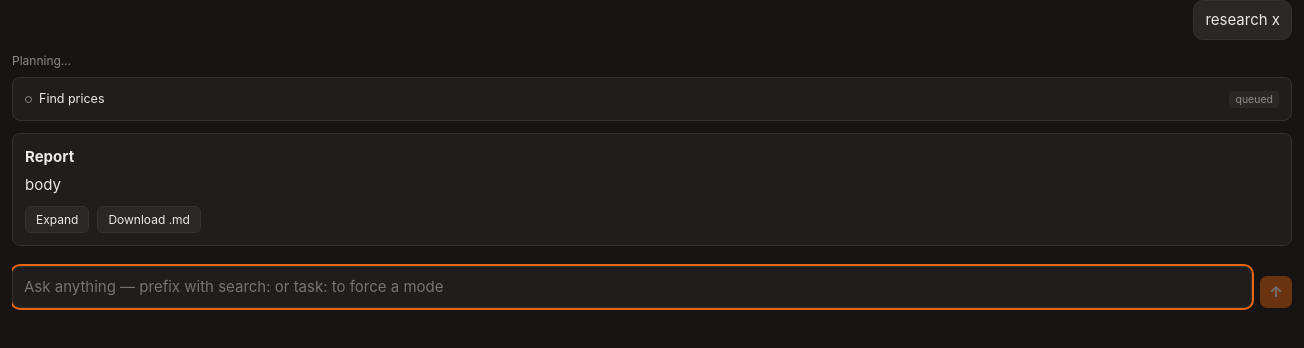
Chat › failed send keeps the text and shows an error
Expected: the text "Find prices" is shown, [25,90,104,108]
Type "keep me" into the text box named "Message" at (632, 287), box [12,266,1252,308]
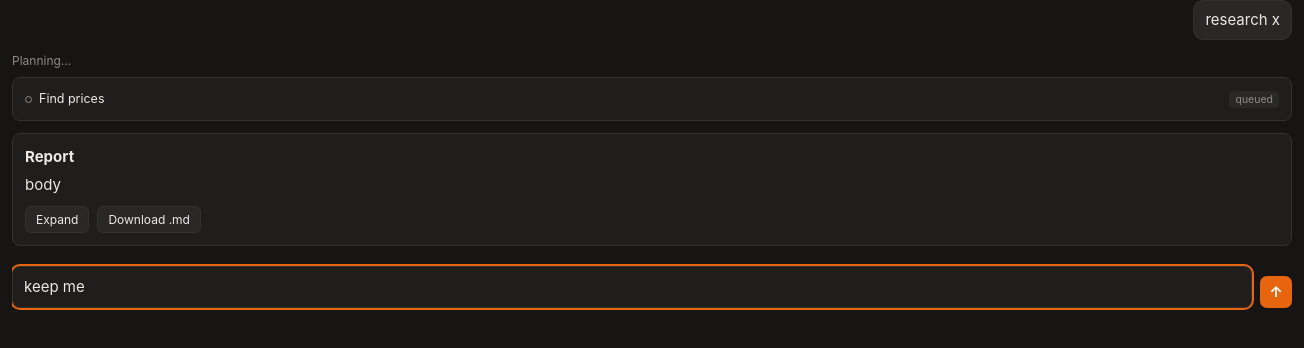
Press Enter in the text box named "Message", box [12,266,1252,308]
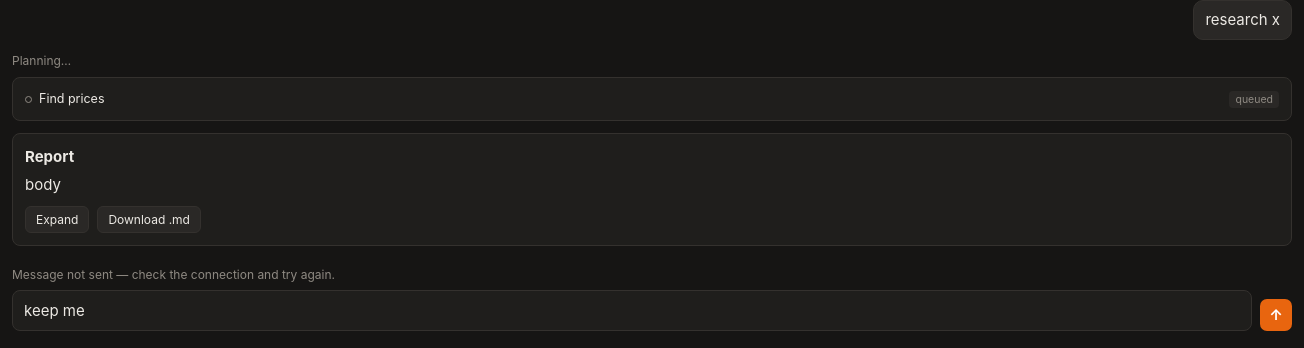
Now the text "Message not sent — check the connection and try again." is shown, box [12,267,335,282]
